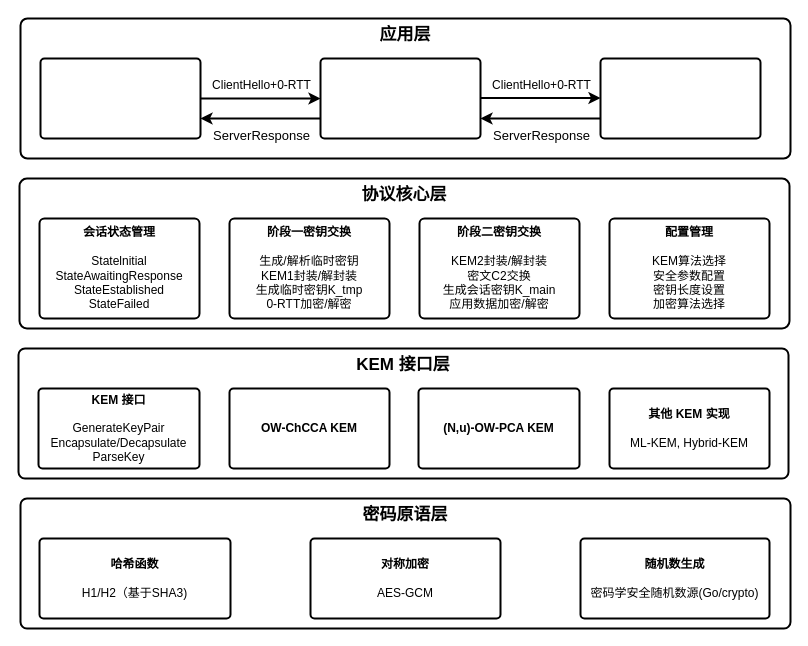
This 808x646 diagram has some shape labels left out. Each missing label, with the centre of its shape:
"客户端（Client） 生成 ClientHello 处理 ServerResponse 加密/解密应用数据" belongs at [120,98].
"服务器（Server） 处理 ClientHello 生成 ServerResponse 加密/解密应用数据" belongs at [680,98].
"消息序列化 MarshalClientHello UnmarshalClientHello MarshalServerResponse" belongs at [400,98].
